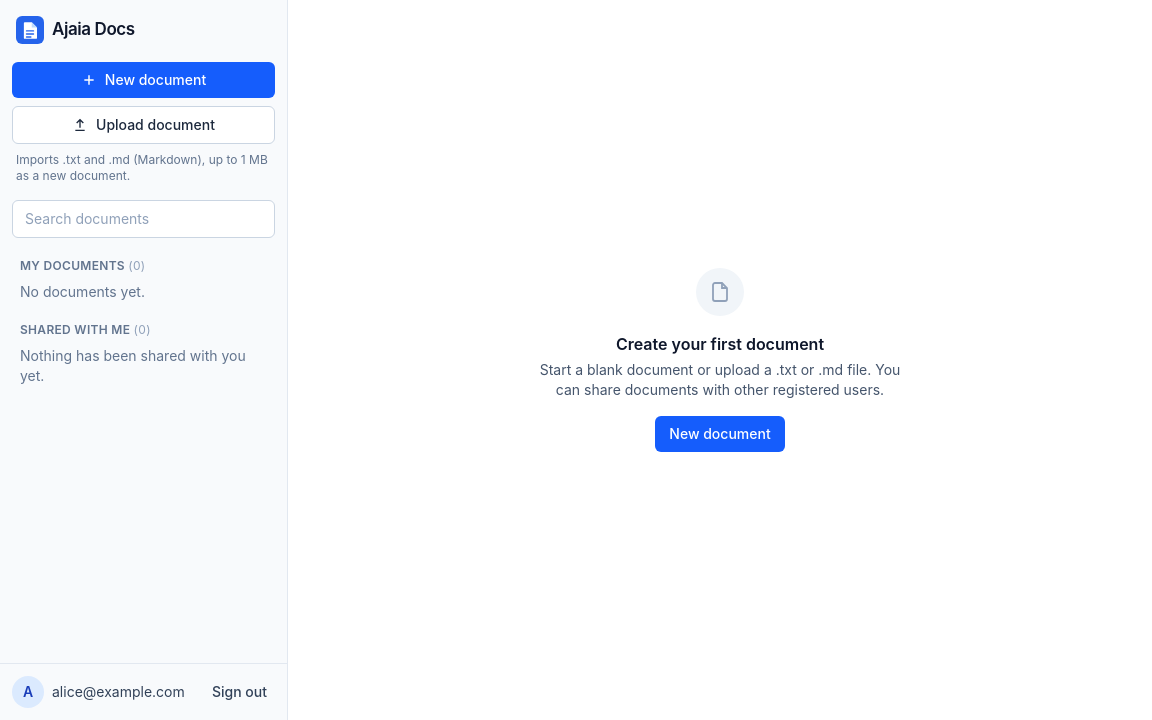
Workspace › lets a user create a document and opens it in the editor
Expected: the text "No documents yet." is shown, [20,283,145,300]
Click the button "New document" below "Ajaia Docs" at (144, 80), box [12,62,275,98]
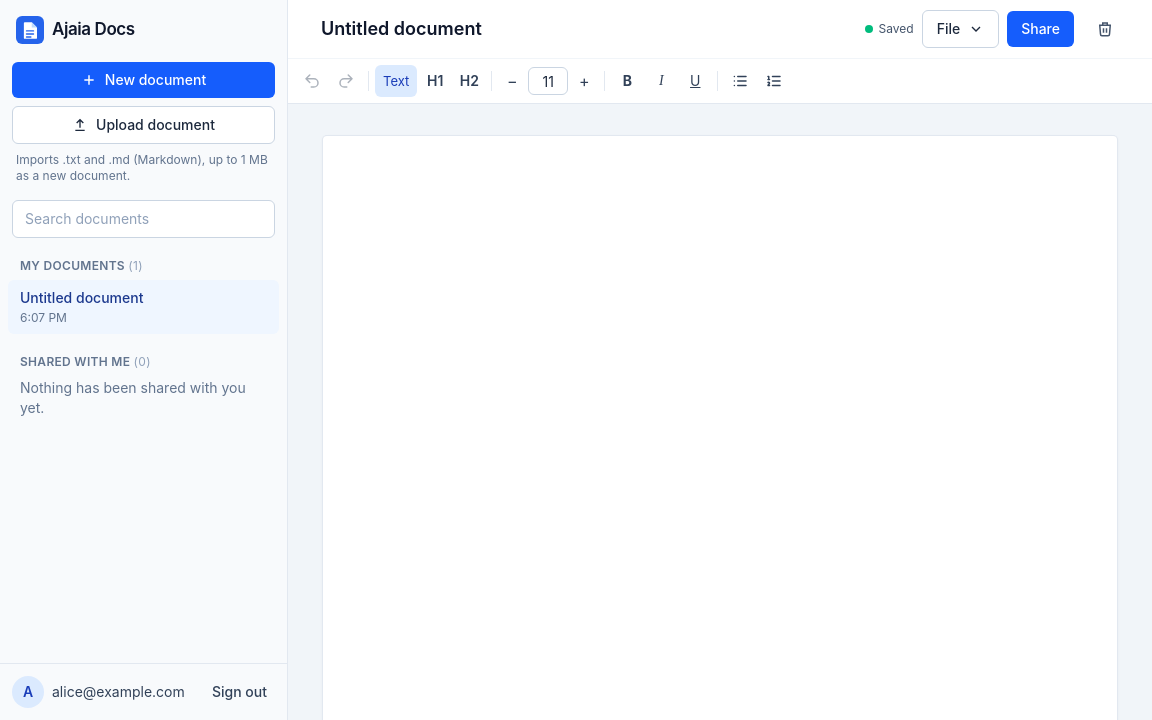
Now the text "Untitled document" is shown, box [20,289,144,306]
Now the field named "Document title" holds "Untitled document", box [312,10,852,48]
Now the element named "Formatting" is shown, box [296,65,790,97]
